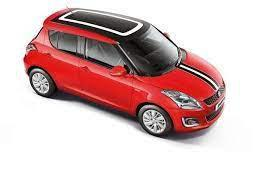Hatchback: (24, 7, 229, 137)
